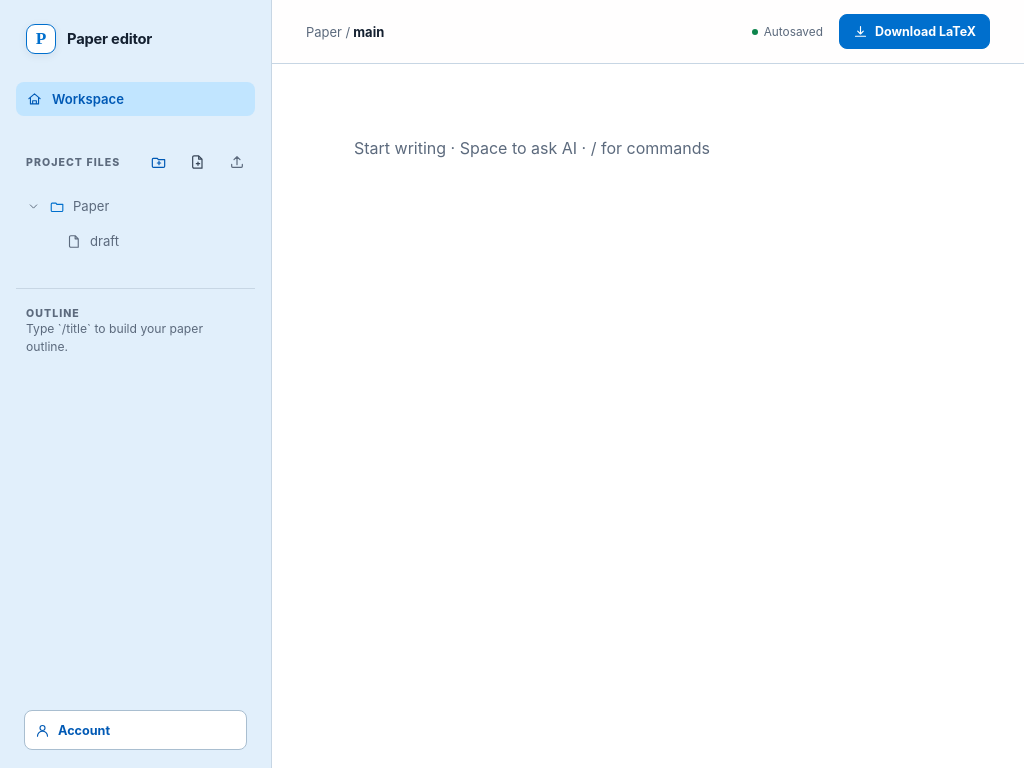
Test: BlockEditor › loads a selected .tex file as editable visual blocks
The width and height of the screenshot is (1024, 768).
Click the button with aria-label "draft file": (110, 241) x1=42 y1=230 x2=178 y2=252
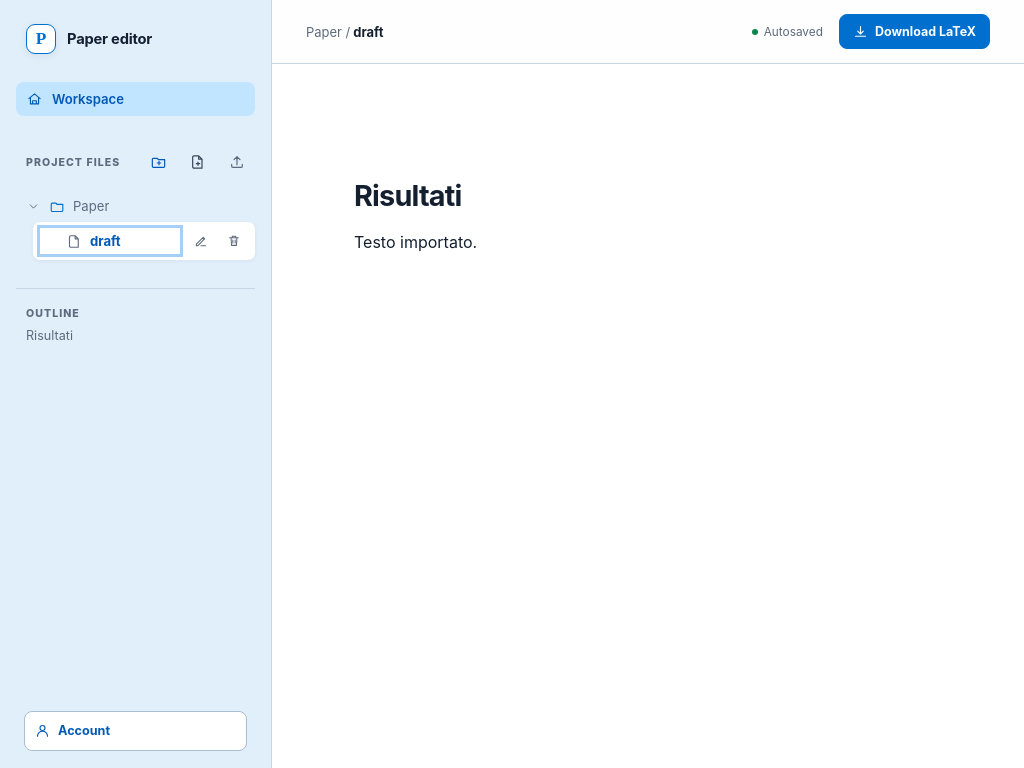
Expected: the heading "Risultati" is shown, x1=354 y1=178 x2=462 y2=213
Expected: the field named "Paper editor" shows "Testo importato.", x1=354 y1=178 x2=477 y2=252
